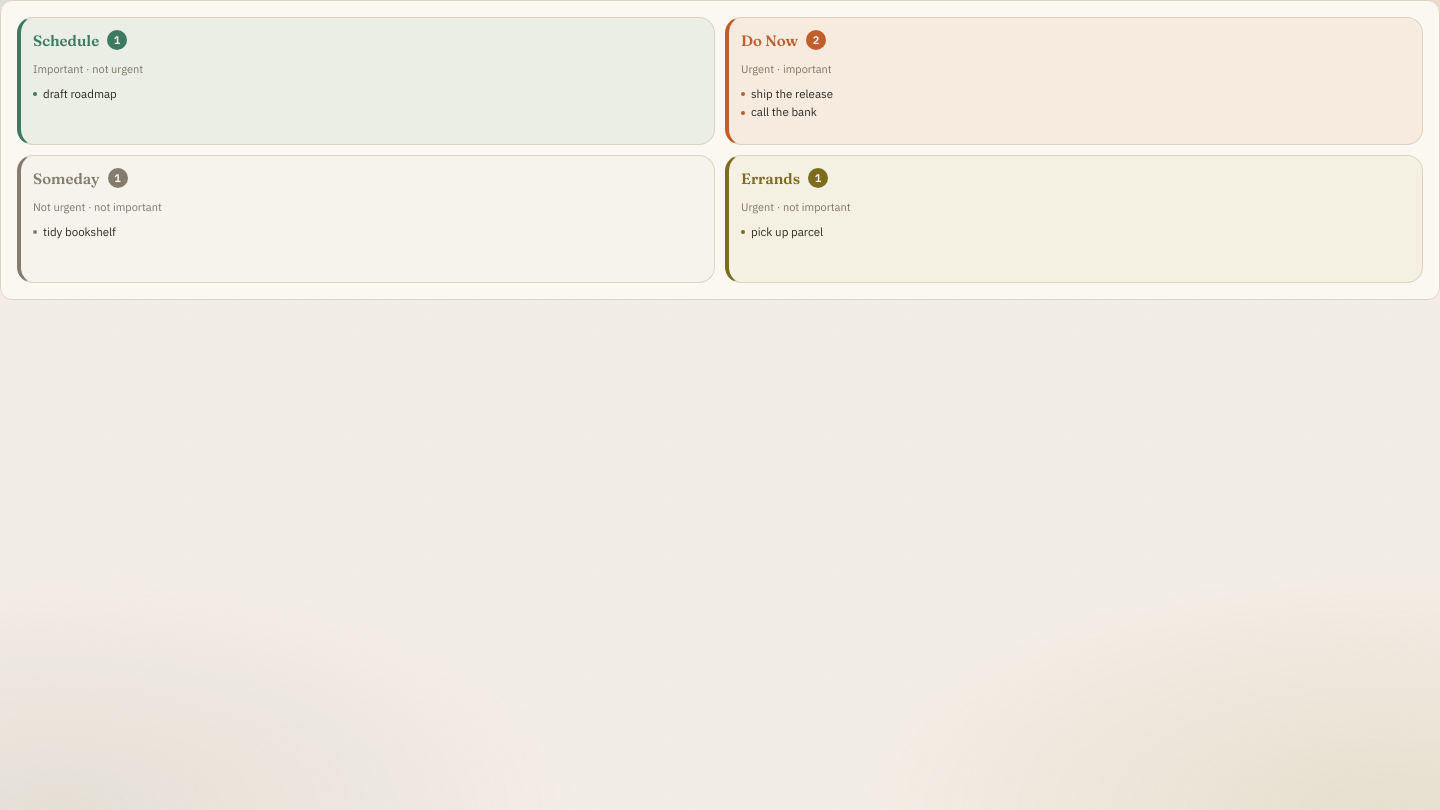
Test: MobileMatrix › move to quadrant › picking a quadrant writes coords inside it and closes the sheet
Click the button with aria-label "Do Now, 2 tasks" at point(770, 40), box [725,17,1423,145]
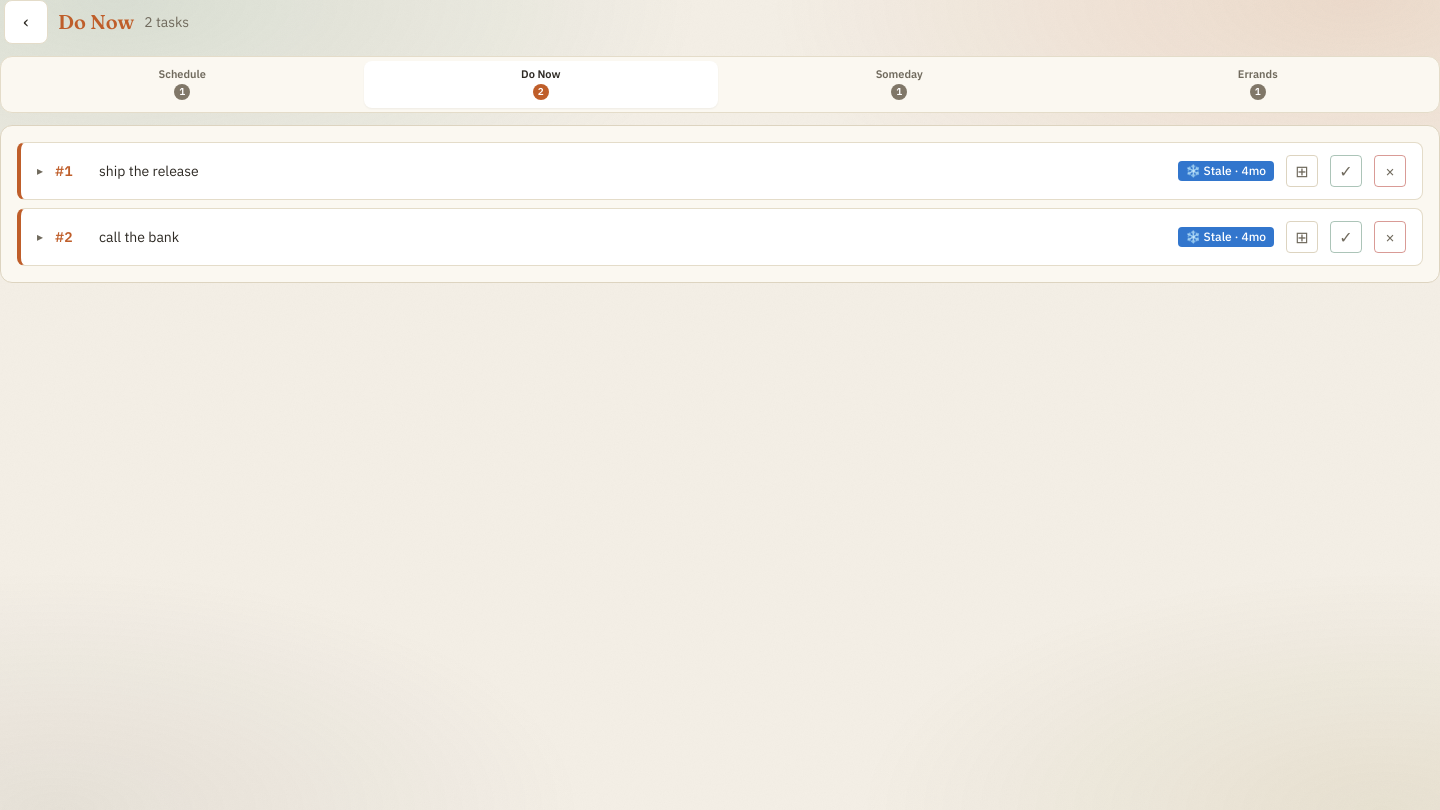
Click the button named "Move to quadrant" at point(1302, 171), box [1286,155,1318,187]
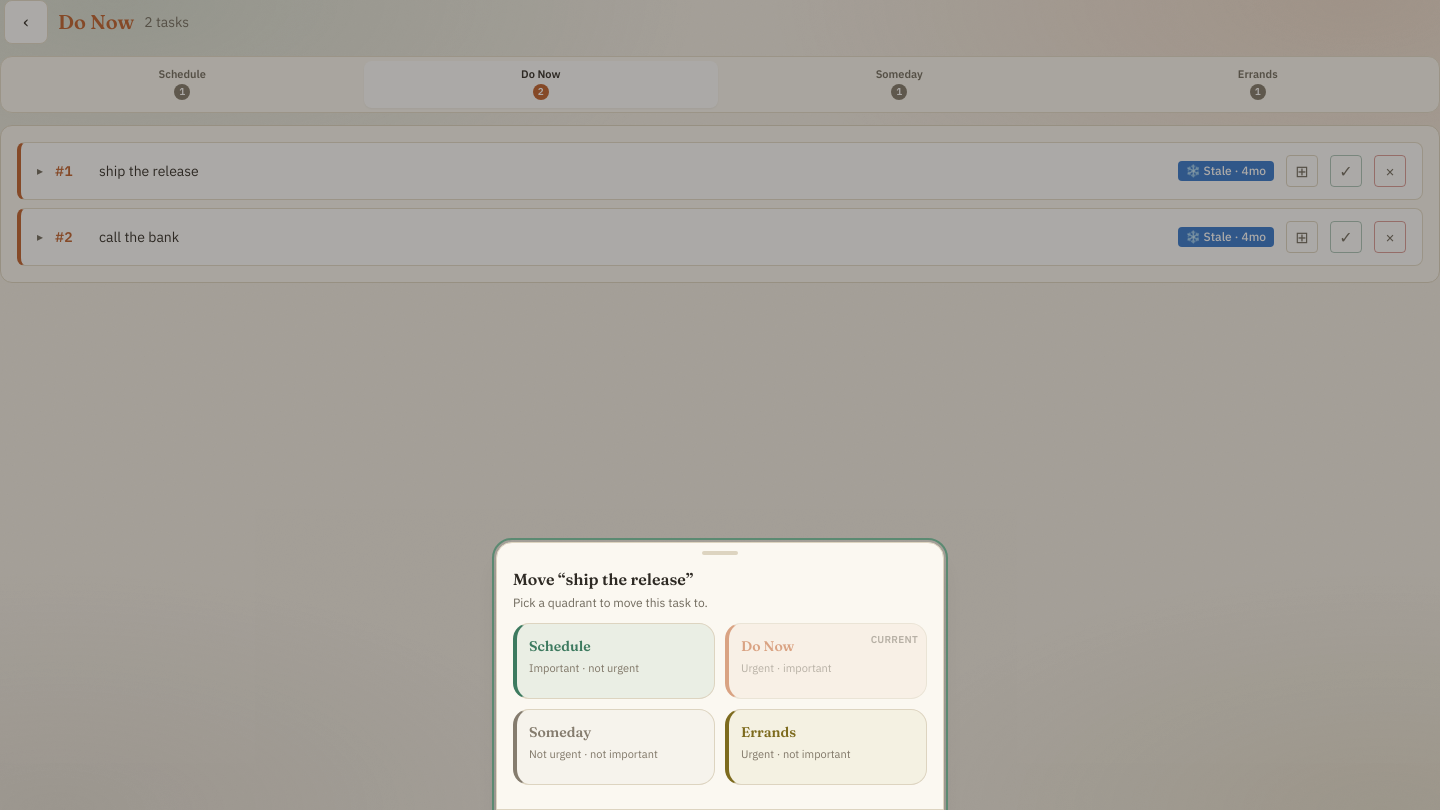
Click the button with aria-label "Move to Errands" at point(826, 747), box [725,709,927,785]
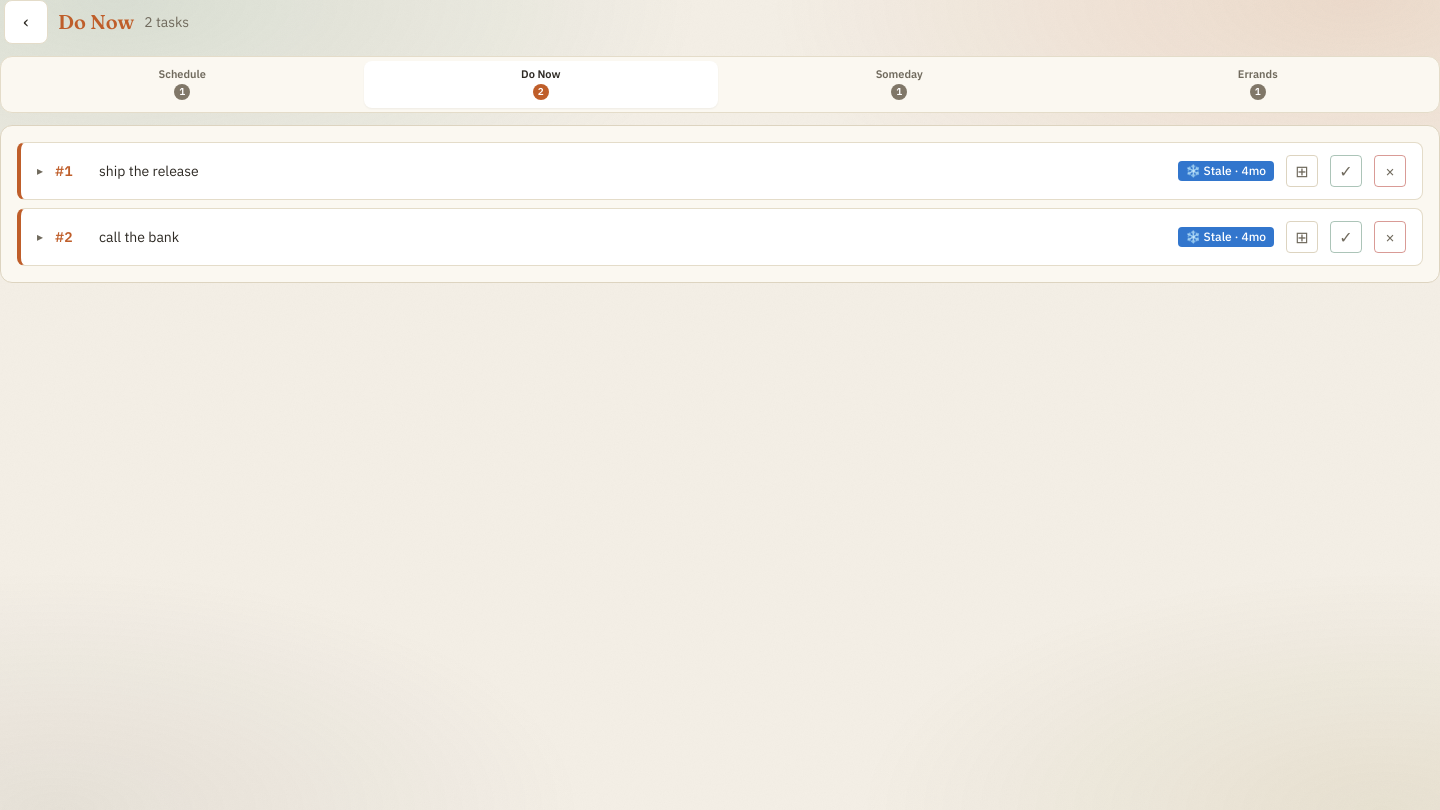
Expected: the dialog is gone
